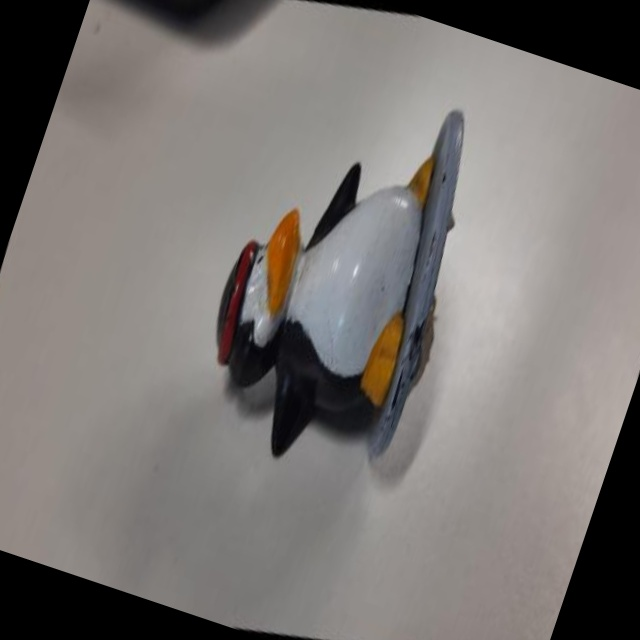Penguin: (152, 27, 528, 526)
